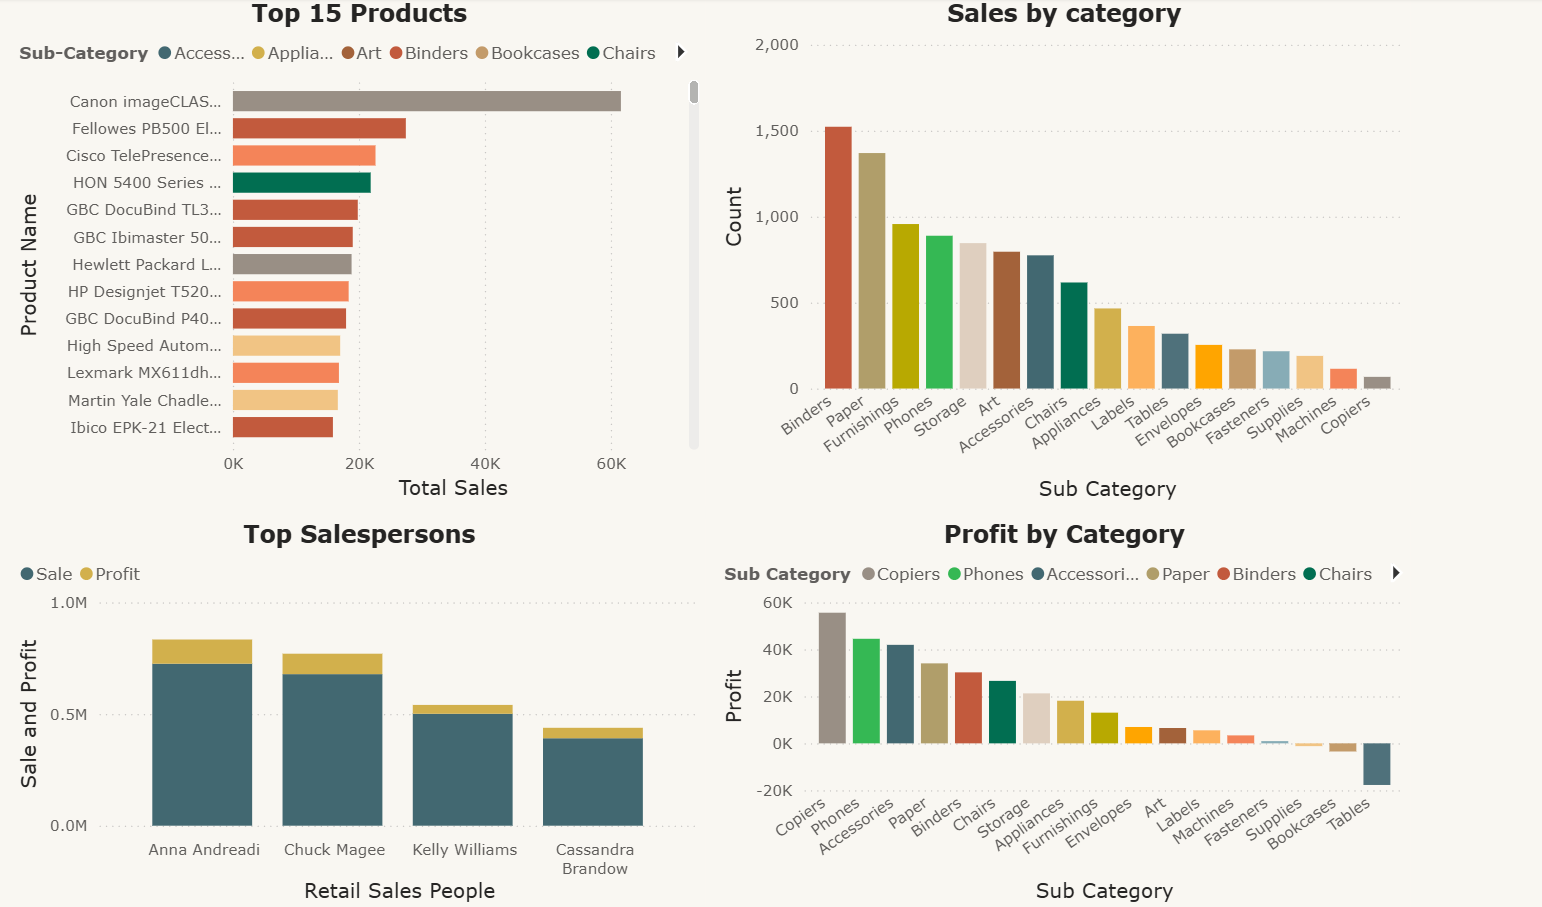

What the dashboard file says about the page in this screenshot:
{"tool":"powerbi","page":{"name":"Page 2","canvas":[1280,720],"ordinal":1},"visuals":[{"type":"barChart","title":"Top 15 Products ","fields":{"Category":["Retails Order Full Dataset.Product Name"],"Y":["Sum(Retails Order Full Dataset.Sales)"],"Series":["Retails Order Full Dataset.Sub-Category"]},"box":[10.2,0,547.8,401.7],"z":0},{"type":"columnChart","title":"Top Salespersons","fields":{"Y":["Sum(Retails Order Full Dataset.Sales)","Sum(Retails Order Full Dataset.Profit)"],"Category":["Retails Order Full Dataset.Retail Sales People"]},"box":[10,412,548,308],"z":1000},{"type":"columnChart","title":"Sales by category","fields":{"Category":["Retails Order Full Dataset.Sub-Category"],"Y":["CountNonNull(Retails Order Full Dataset.Sales)"],"Series":["Retails Order Full Dataset.Sub-Category"]},"box":[568,0,548,402],"z":2000},{"type":"columnChart","title":"Profit by Category","fields":{"Category":["Retails Order Full Dataset.Sub-Category"],"Series":["Retails Order Full Dataset.Sub-Category"],"Y":["Sum(Retails Order Full Dataset.Profit)"]},"box":[568,412,548,308],"z":3000}]}

Visuals, with their boxes on the page's 1280x720 design canvas (x1, y1, x2, y2). These are canvas units, not pixel positions in the 1542x907 screenshot, which may show the page scaled, cropped or inside an application window:
"Top 15 Products " barChart: BBox(10, 0, 558, 402)
"Top Salespersons" columnChart: BBox(10, 412, 558, 720)
"Sales by category" columnChart: BBox(568, 0, 1116, 402)
"Profit by Category" columnChart: BBox(568, 412, 1116, 720)
